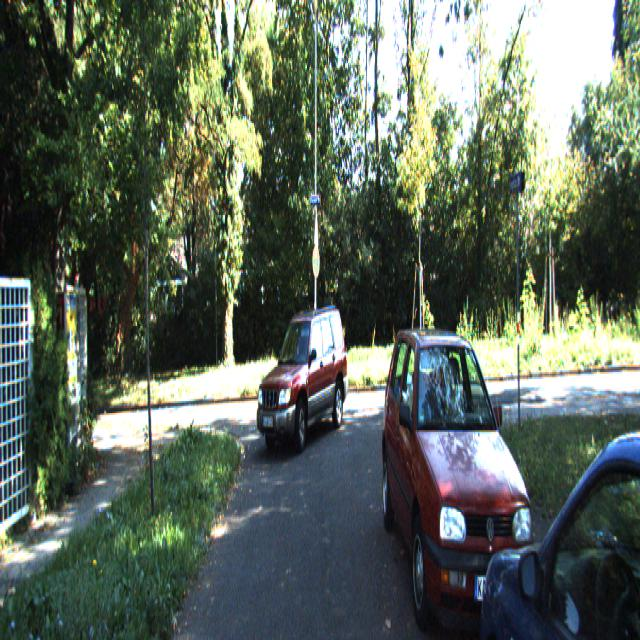Car: (380, 324, 550, 638), (470, 355, 639, 638), (255, 306, 348, 459)
